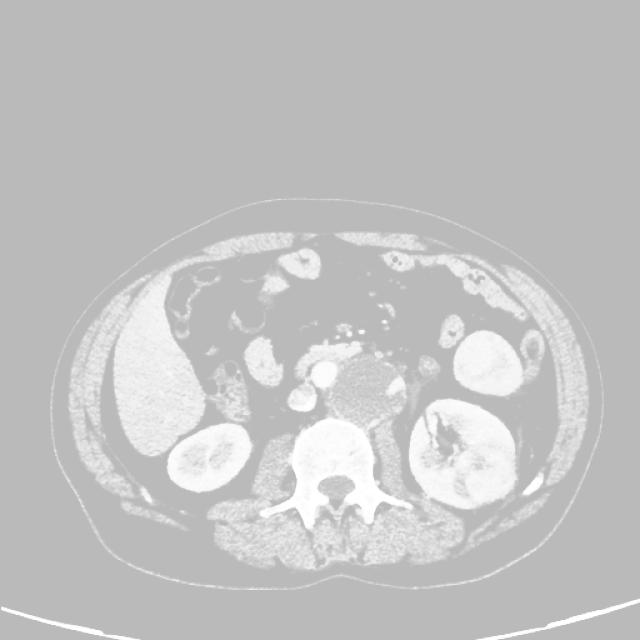TUMOR: (136, 263, 556, 464)
